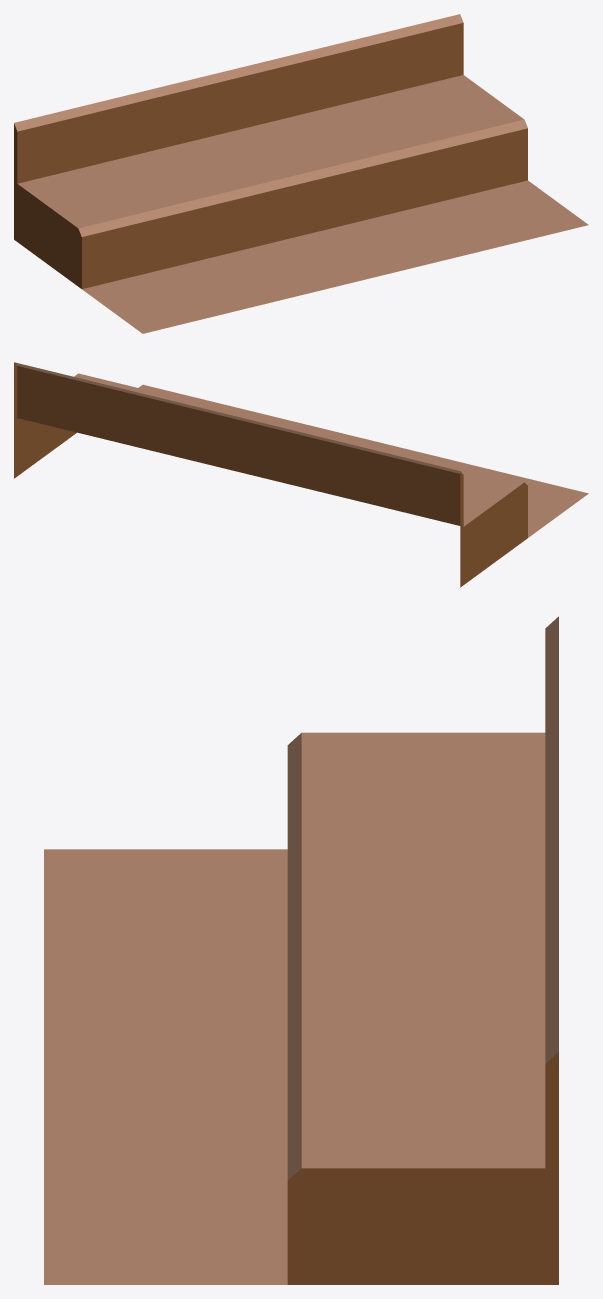
File: 096_097_098_099_stairs.glb
3 views of the same model, one above another, from view 1: azimuth 30°, elevation 25°; view 2: azimuth 150°, elevation 25°; view 3: azimuth 270°, elevation 25° (orthographic). The views are drawn at different scales.
Visible parts, largest first — view 1: Plane; view 2: Plane; view 3: Plane.
Part boxes in pixels (<box>): Plane: <box>14,14,588,333</box>; Plane: <box>14,362,588,587</box>; Plane: <box>44,616,558,1284</box>.
Bounding box in the file's own units: 1.5 × 0.375 × 0.75.
